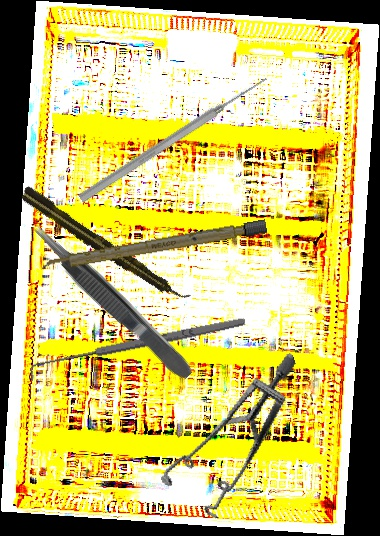Handpiece: (18, 183, 192, 310)
Hook Surgical: (27, 314, 248, 381)
Pusher: (77, 72, 270, 206)
Scalpel Handle: (40, 219, 268, 273)
Speculum: (135, 352, 337, 532)
Tissue Forceps: (27, 217, 196, 387)
